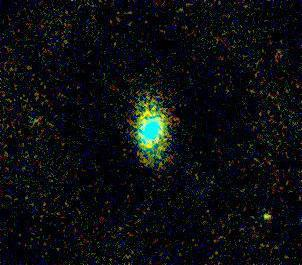star: (252, 202, 282, 232)
